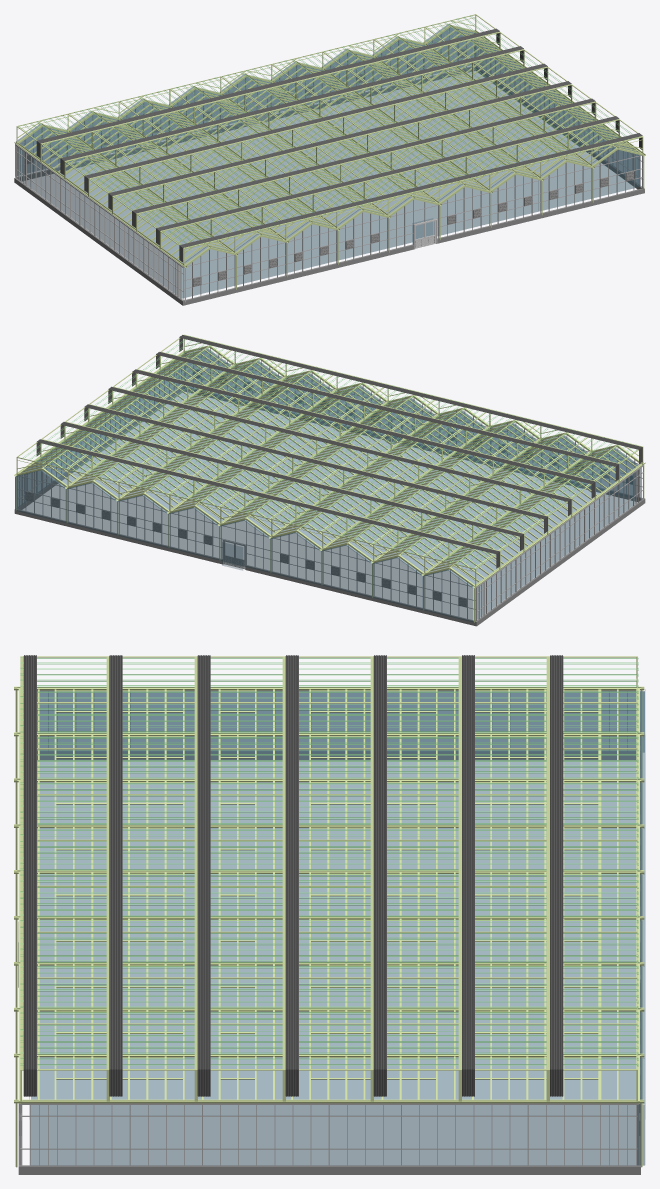
3 renders of one model, top to bottom at view 1: azimuth 30°, elevation 25°; view 2: azimuth 150°, elevation 25°; view 3: azimuth 270°, elevation 25°, orthographic. The views are drawn at different scales.
Visible parts, largest first — view 1: Line595, Rectangle32065, Line10662, Loft30, Rectangle378, Rectangle380, Rectangle244, Rectangle195; view 2: Line595, Rectangle32065, Line10662, Loft30, Rectangle378, Rectangle380, Rectangle244, Rectangle195; view 3: Line595, Rectangle32065, Line10662, Loft30, Rectangle380, Rectangle378.
Boxes of the visible parts, x1=… form: Line595: x1=15, y1=24, x2=640, y2=298; Rectangle32065: x1=14, y1=14, x2=645, y2=302; Line10662: x1=19, y1=15, x2=638, y2=248; Loft30: x1=36, y1=28, x2=642, y2=262; Rectangle378: x1=15, y1=28, x2=642, y2=300; Rectangle380: x1=14, y1=66, x2=644, y2=305; Rectangle244: x1=27, y1=49, x2=634, y2=286; Rectangle195: x1=246, y1=96, x2=437, y2=249; Line595: x1=15, y1=348, x2=640, y2=622; Rectangle32065: x1=14, y1=334, x2=645, y2=622; Line10662: x1=21, y1=336, x2=641, y2=569; Loft30: x1=36, y1=335, x2=642, y2=568; Rectangle378: x1=17, y1=348, x2=643, y2=620; Rectangle380: x1=14, y1=386, x2=645, y2=626; Rectangle244: x1=25, y1=370, x2=632, y2=607; Rectangle195: x1=222, y1=417, x2=413, y2=569; Line595: x1=29, y1=689, x2=645, y2=1165; Rectangle32065: x1=14, y1=656, x2=644, y2=1167; Line10662: x1=20, y1=657, x2=638, y2=1066; Loft30: x1=23, y1=655, x2=563, y2=1096; Rectangle380: x1=18, y1=751, x2=640, y2=1174; Rectangle378: x1=19, y1=690, x2=638, y2=1165.
Bounding box in the file's own units: 5440 × 640 × 3493.
